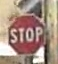stop: (6, 13, 46, 57)
